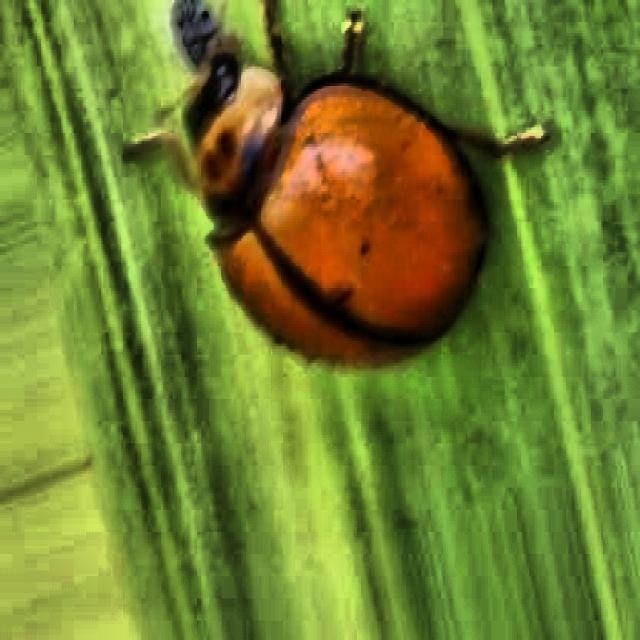Ladybug: (109, 0, 526, 399)
